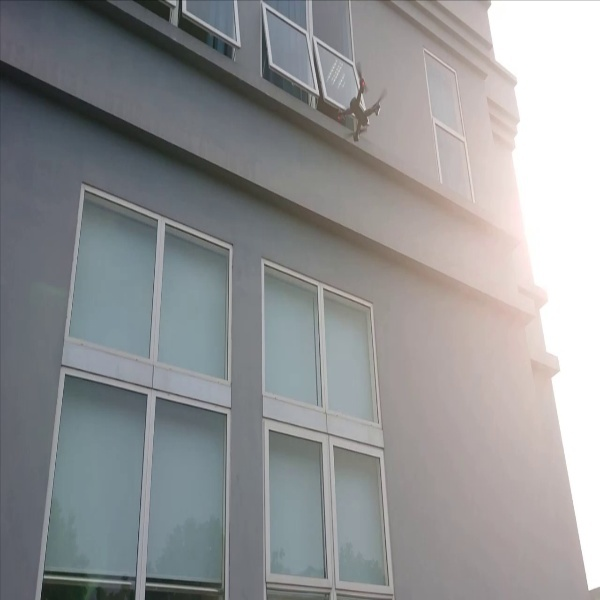drone: (327, 61, 392, 153)
